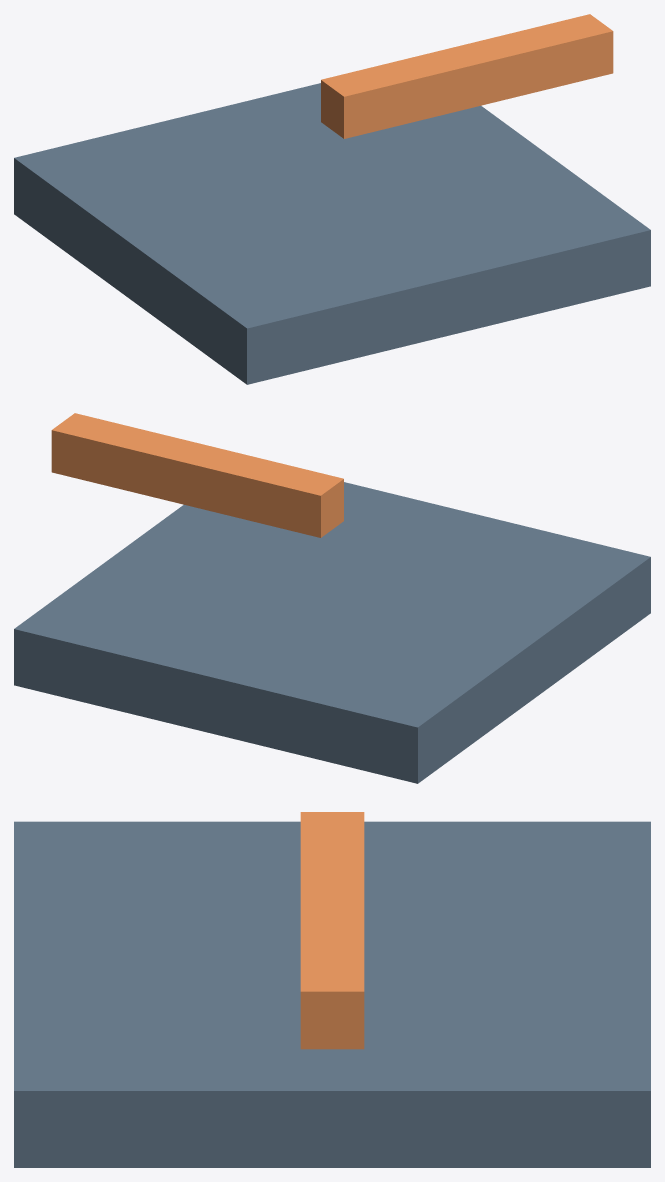
The model's file is environment_hinge.glb.
3 renders of one model, top to bottom at view 1: azimuth 30°, elevation 25°; view 2: azimuth 150°, elevation 25°; view 3: azimuth 270°, elevation 25°, orthographic. The views are drawn at different scales.
Visible parts, largest first — view 1: env.base, env.arm; view 2: env.base, env.arm; view 3: env.base, env.arm.
Boxes of the visible parts, left/top/right/bottom form: env.base: left=14, top=83, right=650, bottom=384; env.arm: left=321, top=14, right=613, bottom=138; env.base: left=14, top=482, right=650, bottom=783; env.arm: left=51, top=413, right=343, bottom=537; env.base: left=14, top=821, right=650, bottom=1167; env.arm: left=300, top=812, right=364, bottom=1049.
Bounding box in the file's own units: 0.35 × 0.115 × 0.3.
